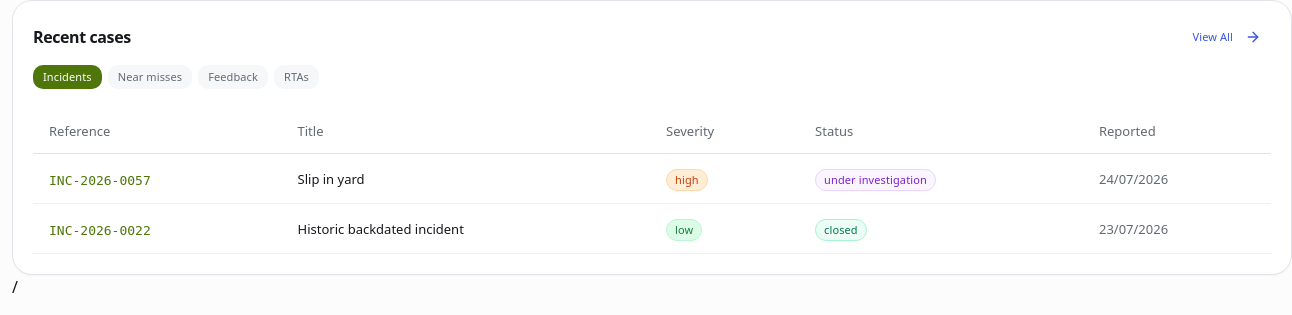
Test: RecentCasesPanel case links (FR-DASH-RECENT-01) › opens the case when the row is clicked away from the reference cell
Click the text "Slip in yard": click(331, 178) [282, 154, 650, 204]
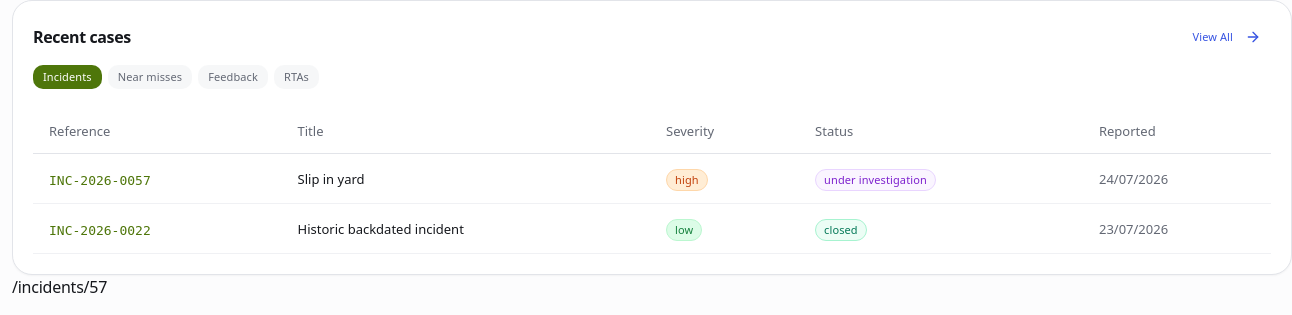
Check: the text with test id "location-probe" reads "/incidents/57", box [12, 276, 107, 298]
